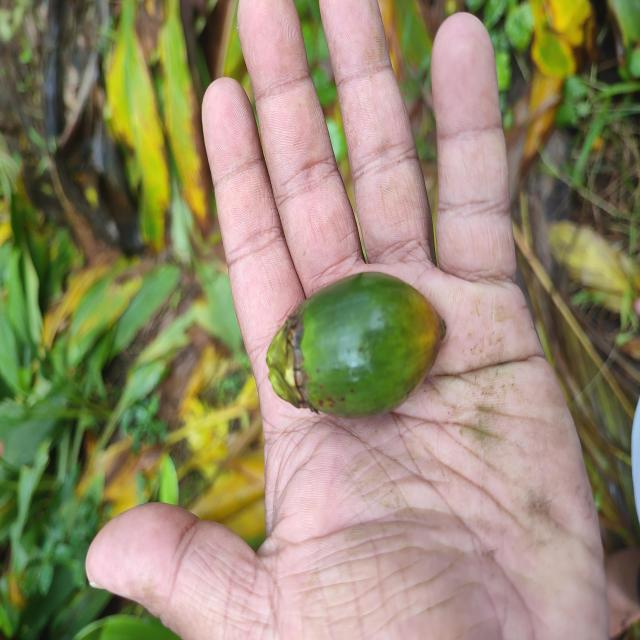damaged: (265, 271, 446, 420)
